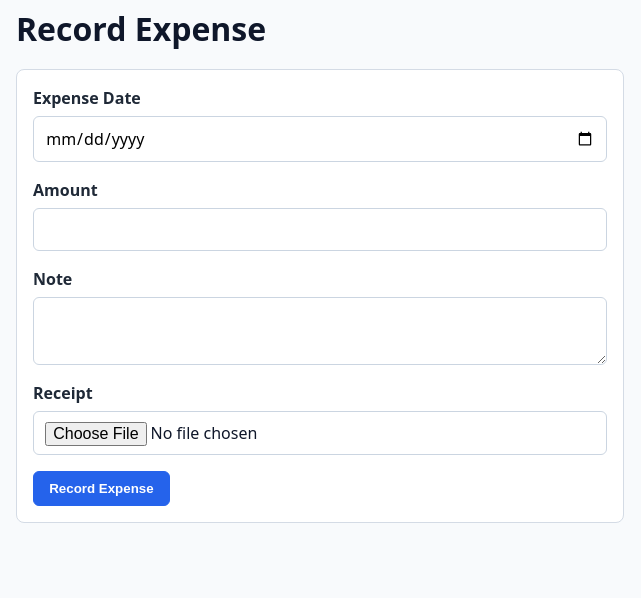
ExpenseEntryPage › shows validation errors for missing date and non-positive amount
Step 1. Type "0" into the number field labelled "Amount" → x=320, y=229, box [33,208,607,251]
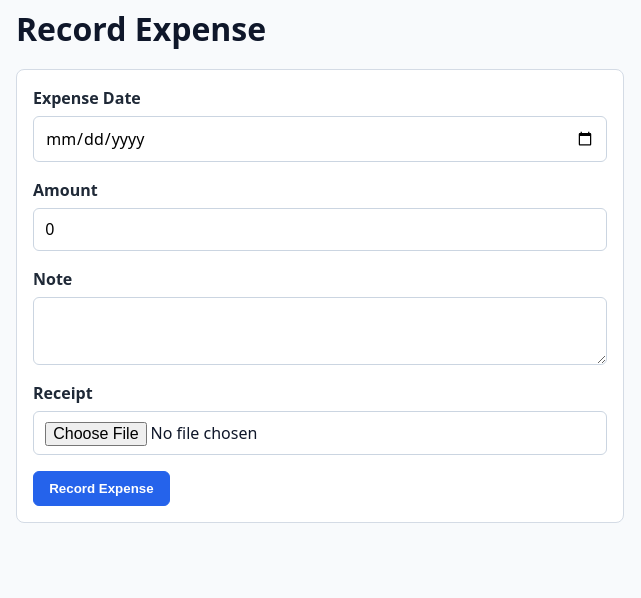
Step 2. Click the button "Record Expense" → x=101, y=489, box [33,471,170,506]
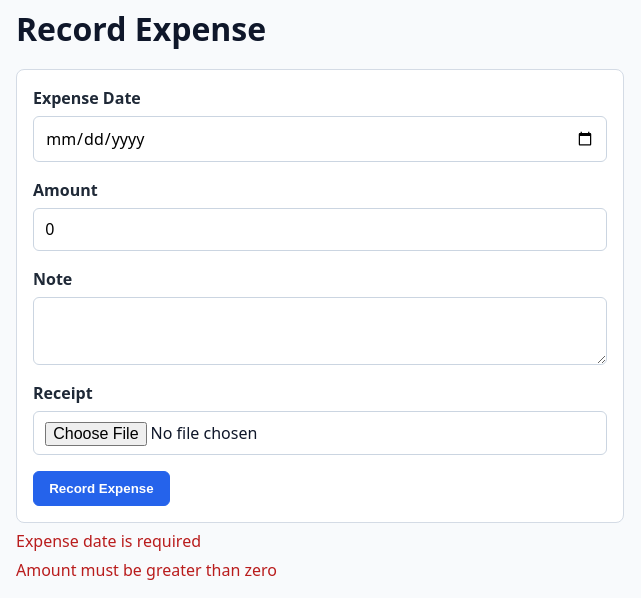
Expected: the text "Expense date is required" is shown, [16,530,201,552]
Expected: the text "Amount must be greater than zero" is shown, [16,559,277,581]
